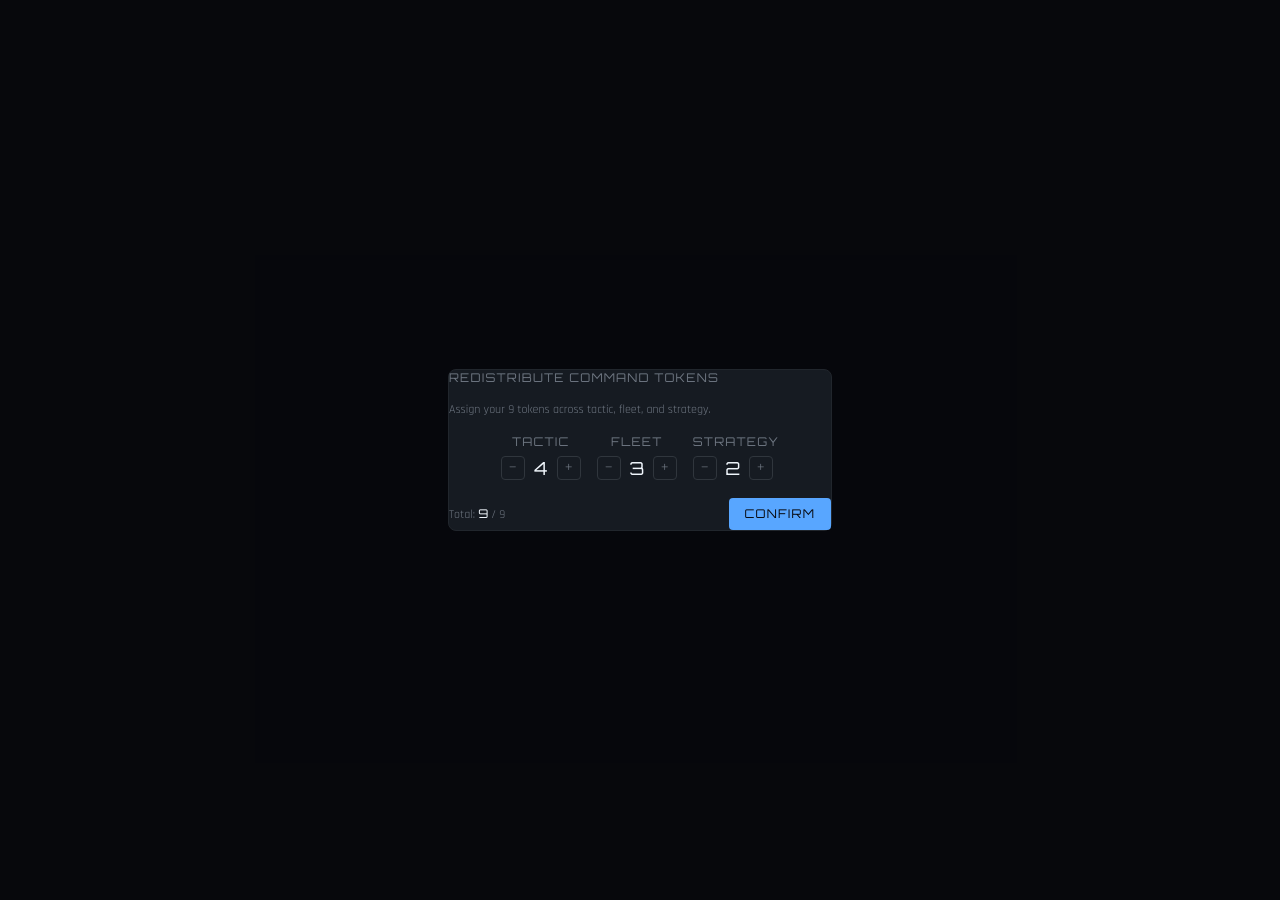
Test case: TokenRedistributionModal › increment button increases tactic count
Click the 1st button "+". click: (569, 468)
box: [557,456,581,480]
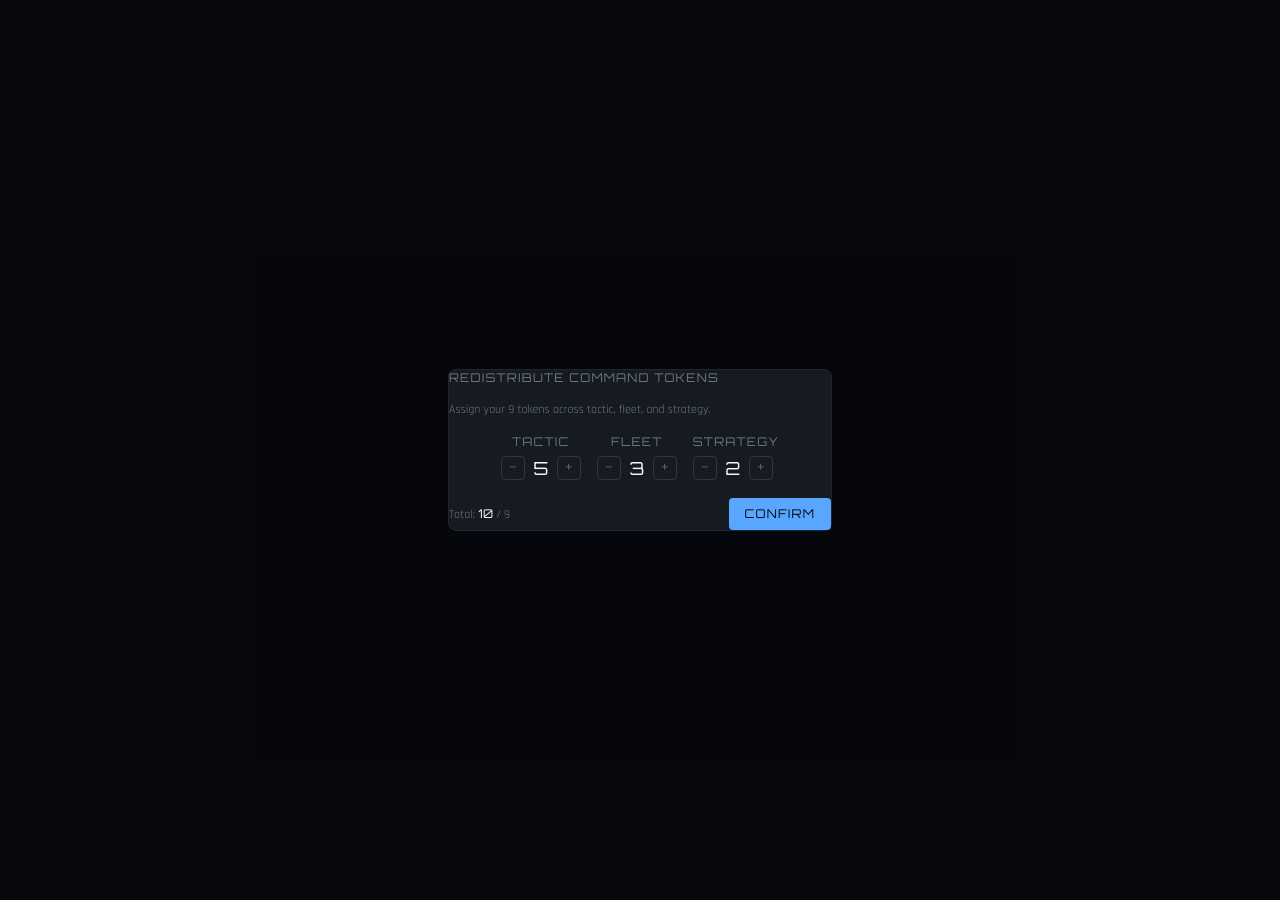
Expected: the field named "tactic tokens" holds "5", [529,454,553,482]
